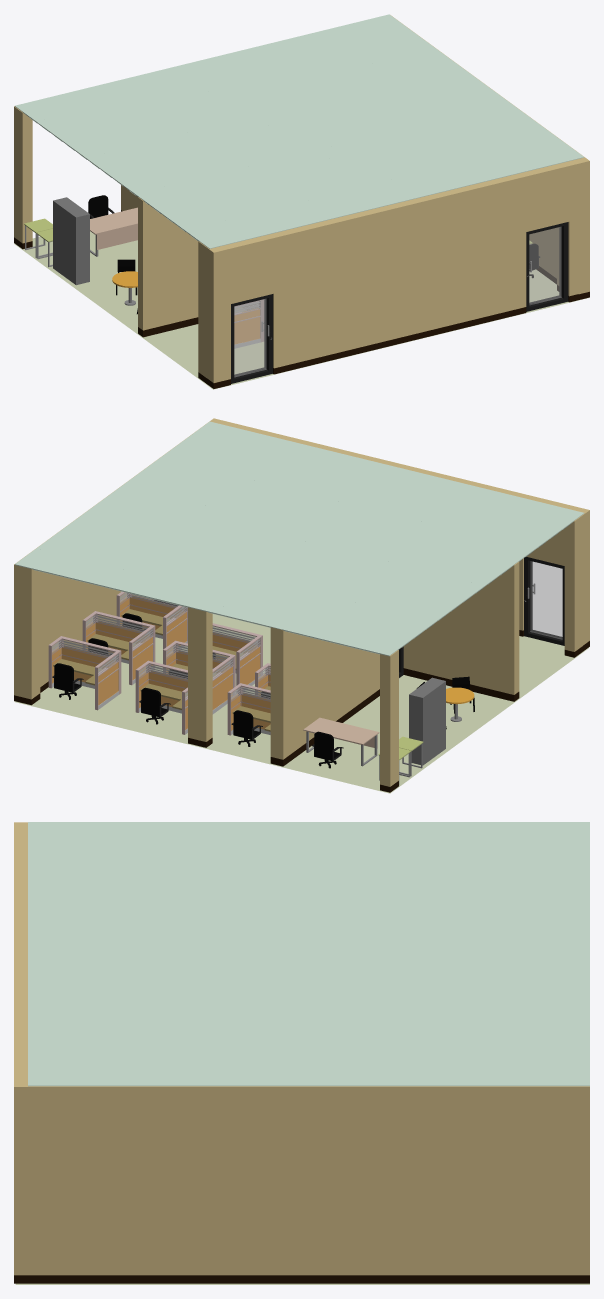
The model's file is CCIS_DIT_v1.glb.
The picture shows the model from 3 angles, top to bottom: view 1: azimuth 30°, elevation 25°; view 2: azimuth 150°, elevation 25°; view 3: azimuth 270°, elevation 25°; orthographic projection. The views are drawn at different scales.
Parts seen in each view (by area): view 1: Fan Switch.045; view 2: Fan Switch.045; view 3: Fan Switch.045.
Part boxes in pixels (<box>): Fan Switch.045: <box>14,14,589,389</box>; Fan Switch.045: <box>14,418,589,793</box>; Fan Switch.045: <box>14,822,589,1284</box>.
Bounding box in the file's own units: 4.5 × 1.58 × 4.14.
